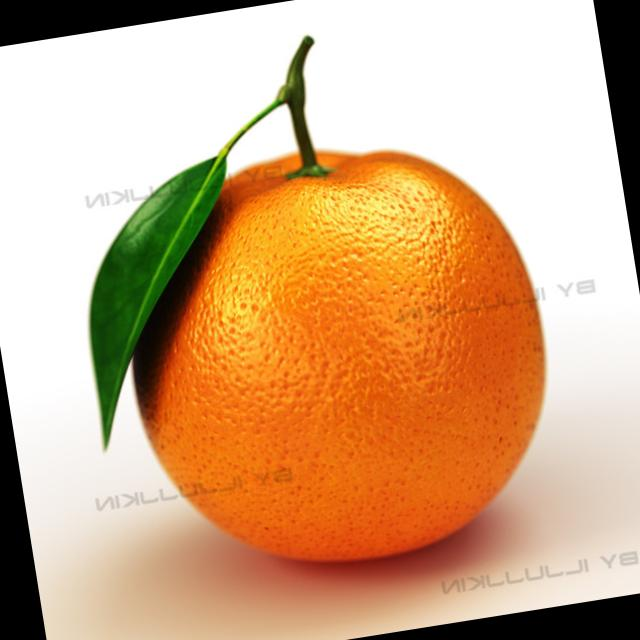orange: (96, 111, 588, 608)
